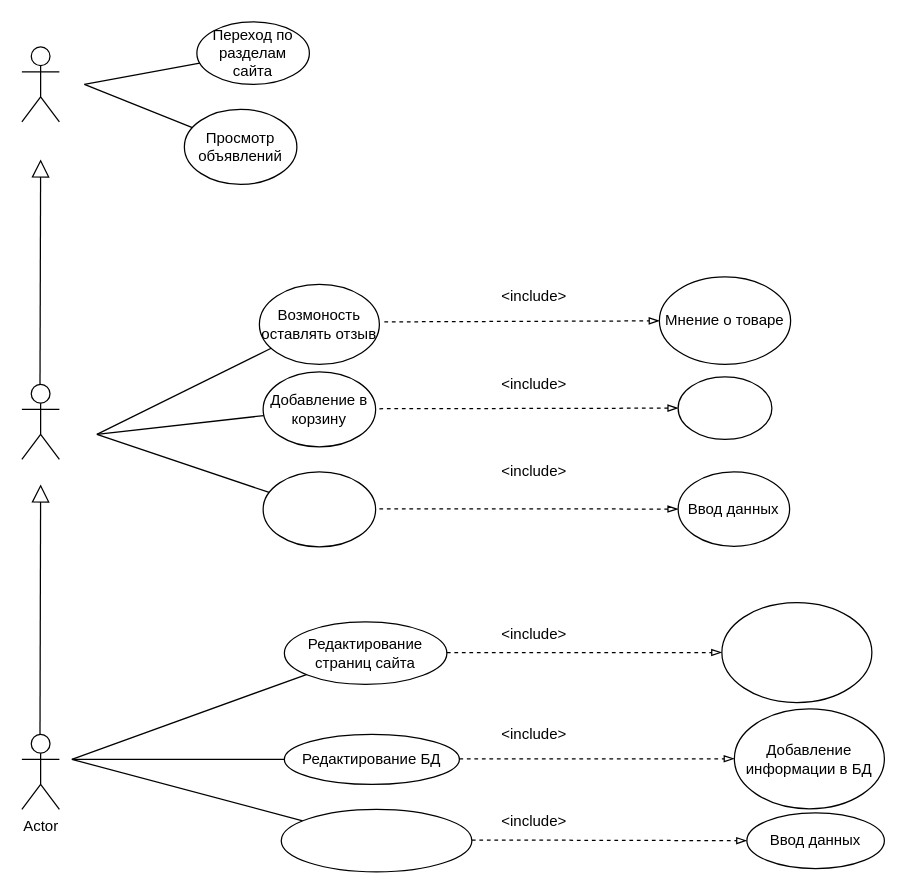
Some shapes in this 906 by 894 pixel diagram are drawn without their labels. Each missing label, with the centre of its shape:
"Авторизация" belongs at point 319,509.
"Авторизация в роли администрации" belongs at point 376,840.
"Выбор товара" belongs at point 724,407.
"Гость" belongs at point 40,84.
"Добавление и изменение модулей" belongs at point 796,651.
"ЗП" belongs at point 40,421.
